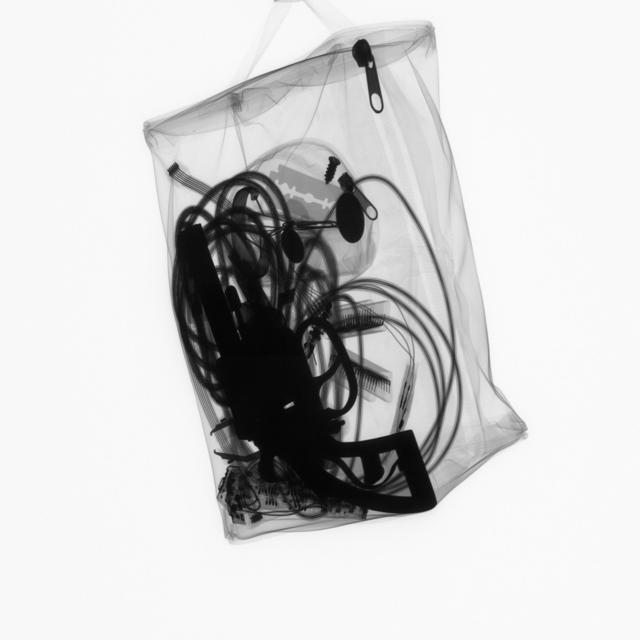gun: (208, 236, 429, 518)
snail: (324, 154, 338, 189)
